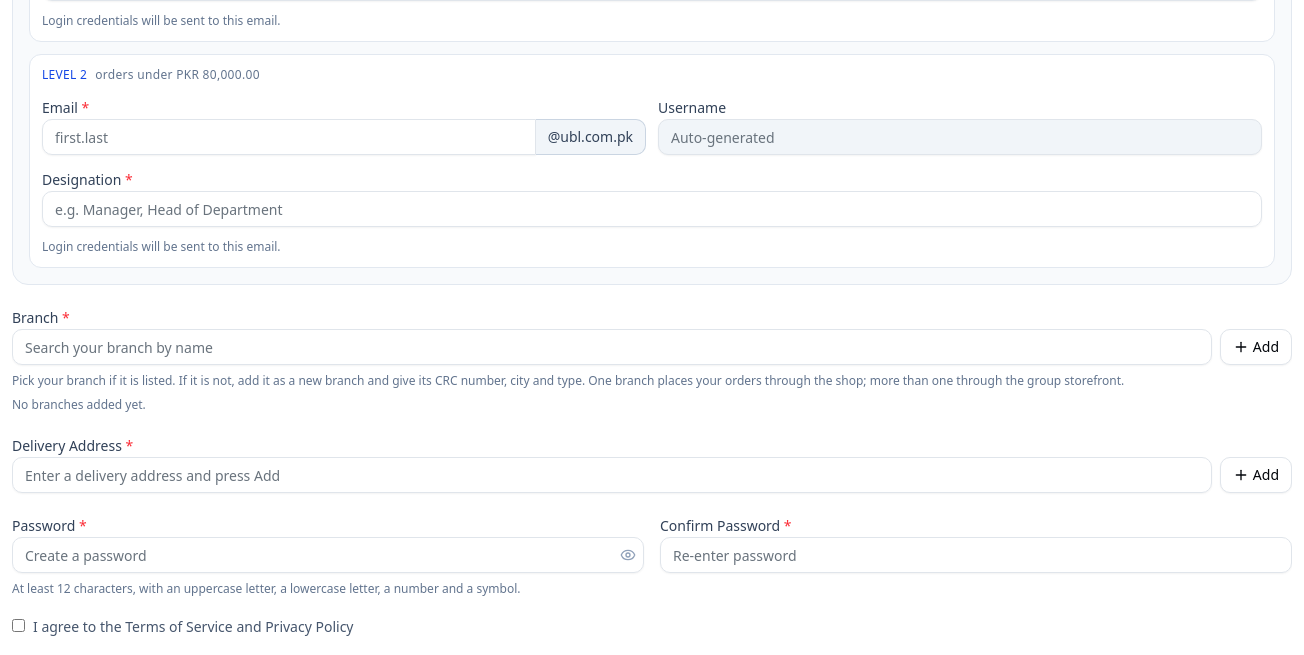
DepartmentSignupForm › refuses a new branch until its city is chosen
The image size is (1304, 655).
(page scrolled)
Type "Korangi Depot" into the field with id "signup-branch" at [612, 347], box [12,329,1212,365]
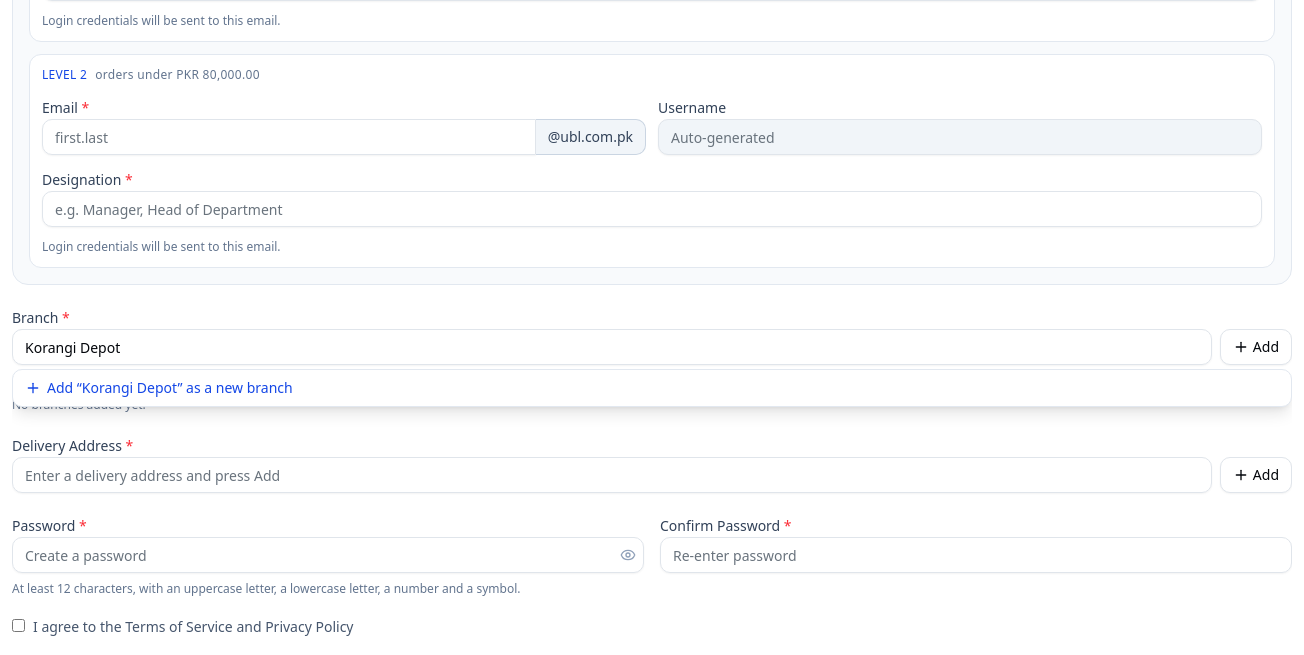
Click the option "Add “Korangi Depot” as a new branch" at [64, 388], box [13,370,1291,406]
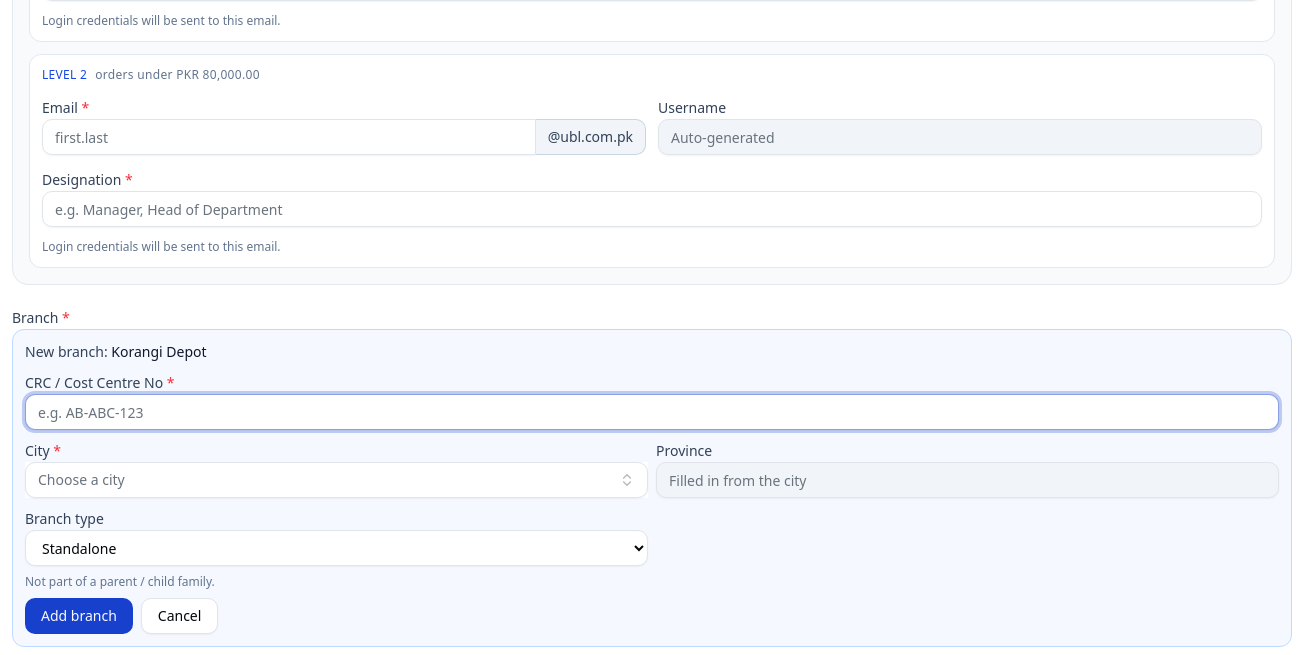
Type "AB-1" into the field with id "signup-new-branch-crc" at [652, 412], box [25,394,1279,430]
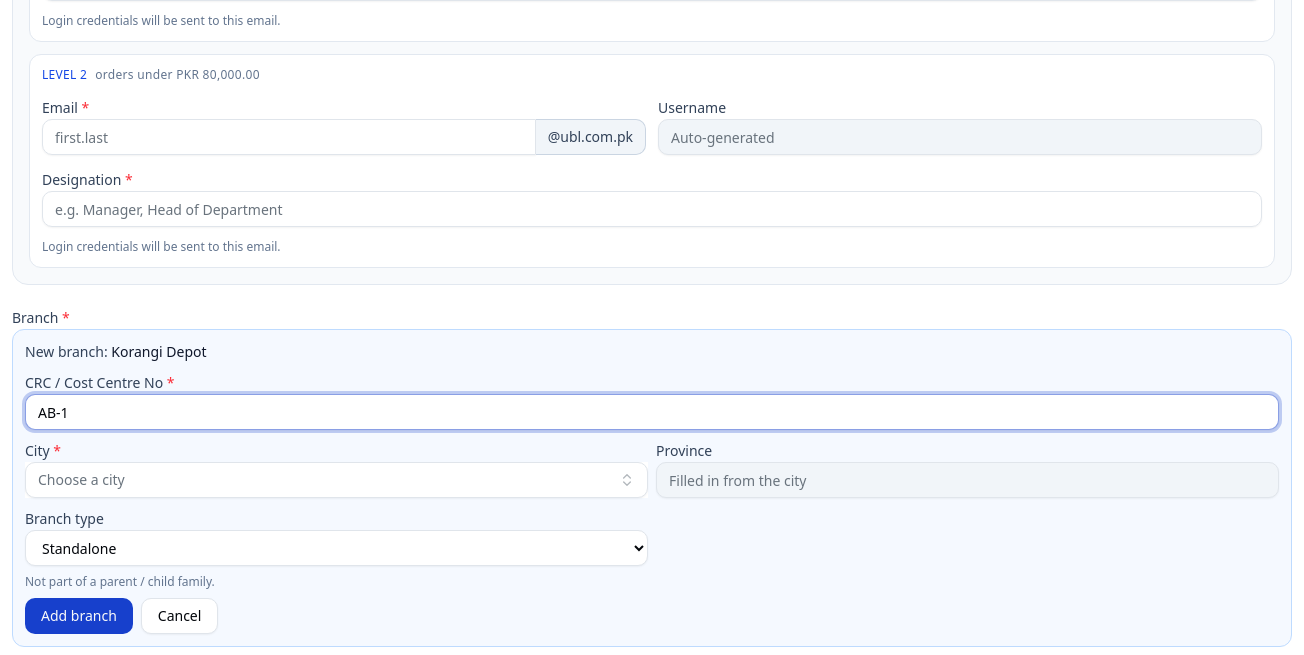
Click the button "Add branch" at [79, 616], box [25,598,133,634]
(page scrolled)
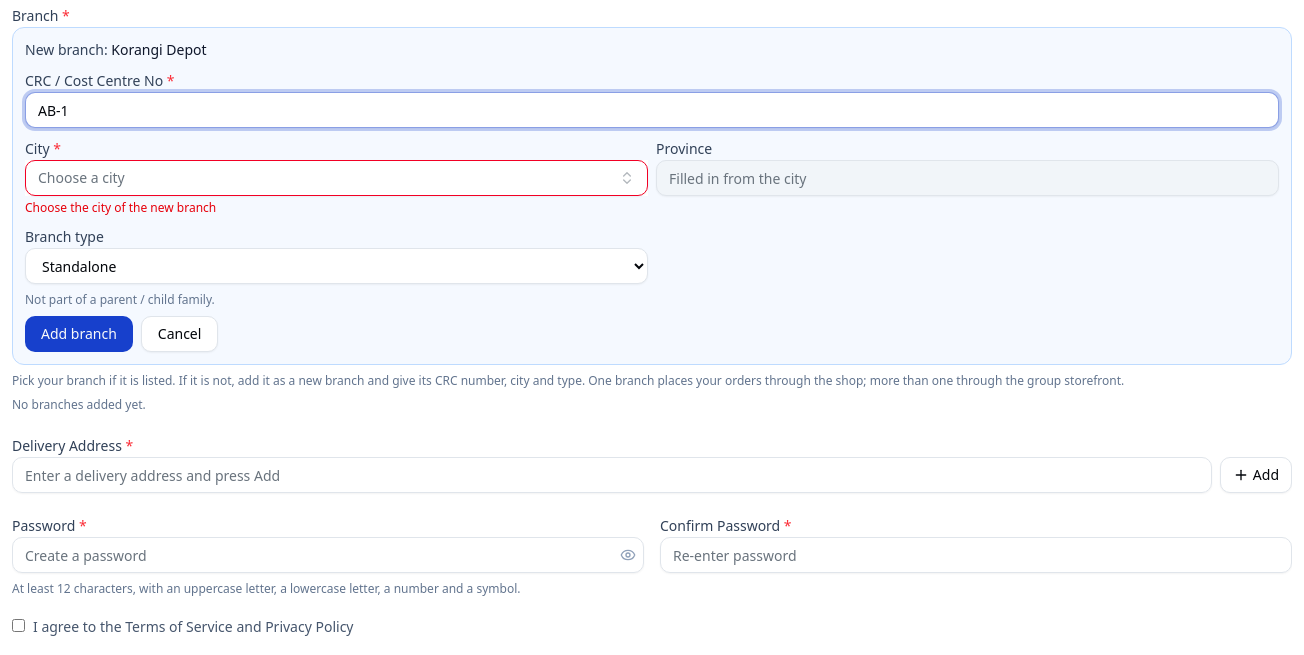
Expected: the text "No branches added yet." is shown, [12,396,146,413]
Expected: the text "Choose the city of the new branch" is shown, [25,199,216,216]
